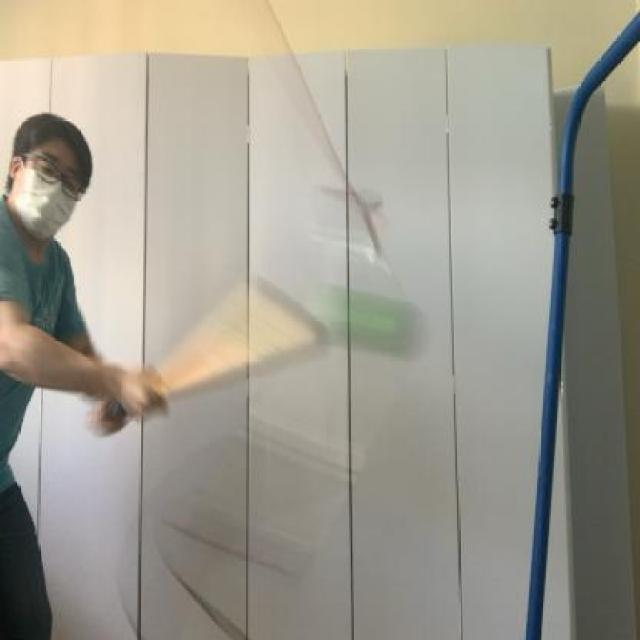baseball: (283, 274, 439, 360)
